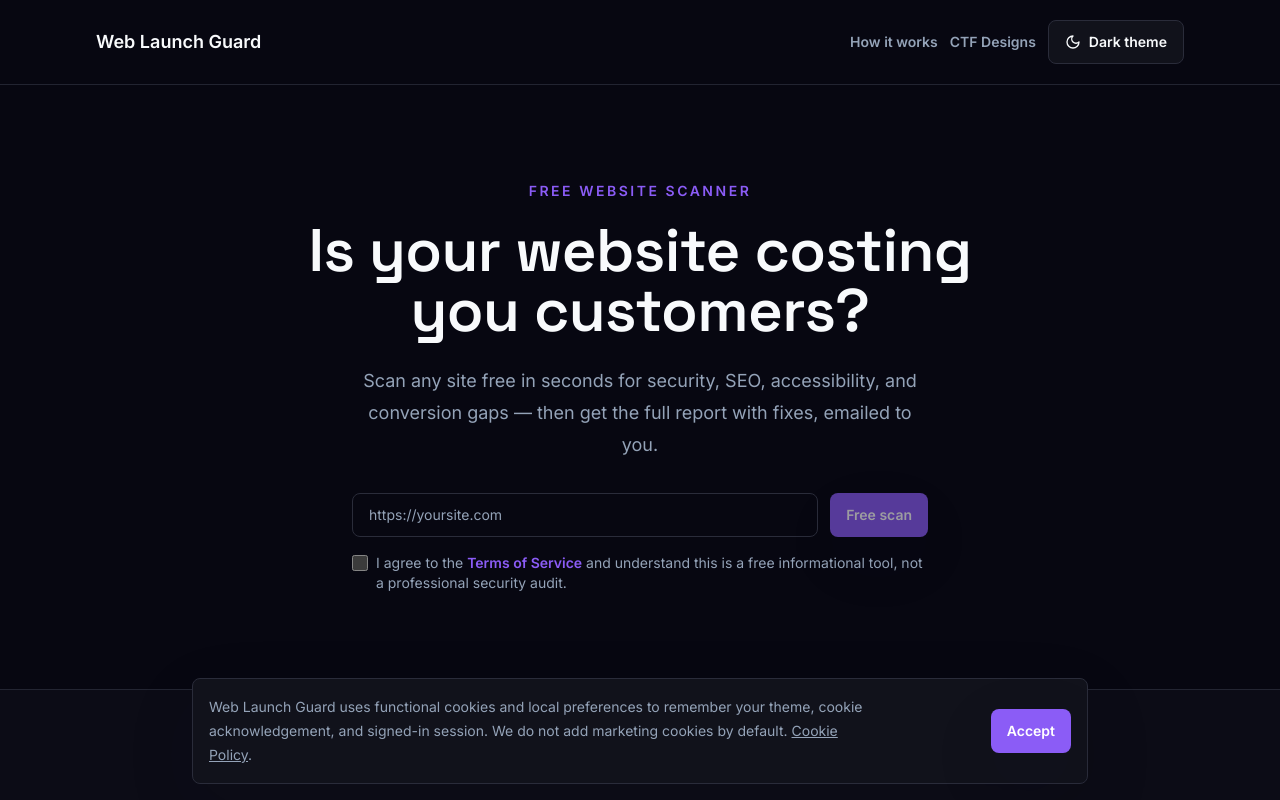
it: shows the functional cookie banner until it is accepted
The image size is (1280, 800).
Expected: the text "functional cookies" is shown, [209, 698, 862, 739]
What coordinates should you click on to do the following:
click the button "Accept"
I would click on:
 (1031, 731)
Its box is [991, 709, 1071, 753].
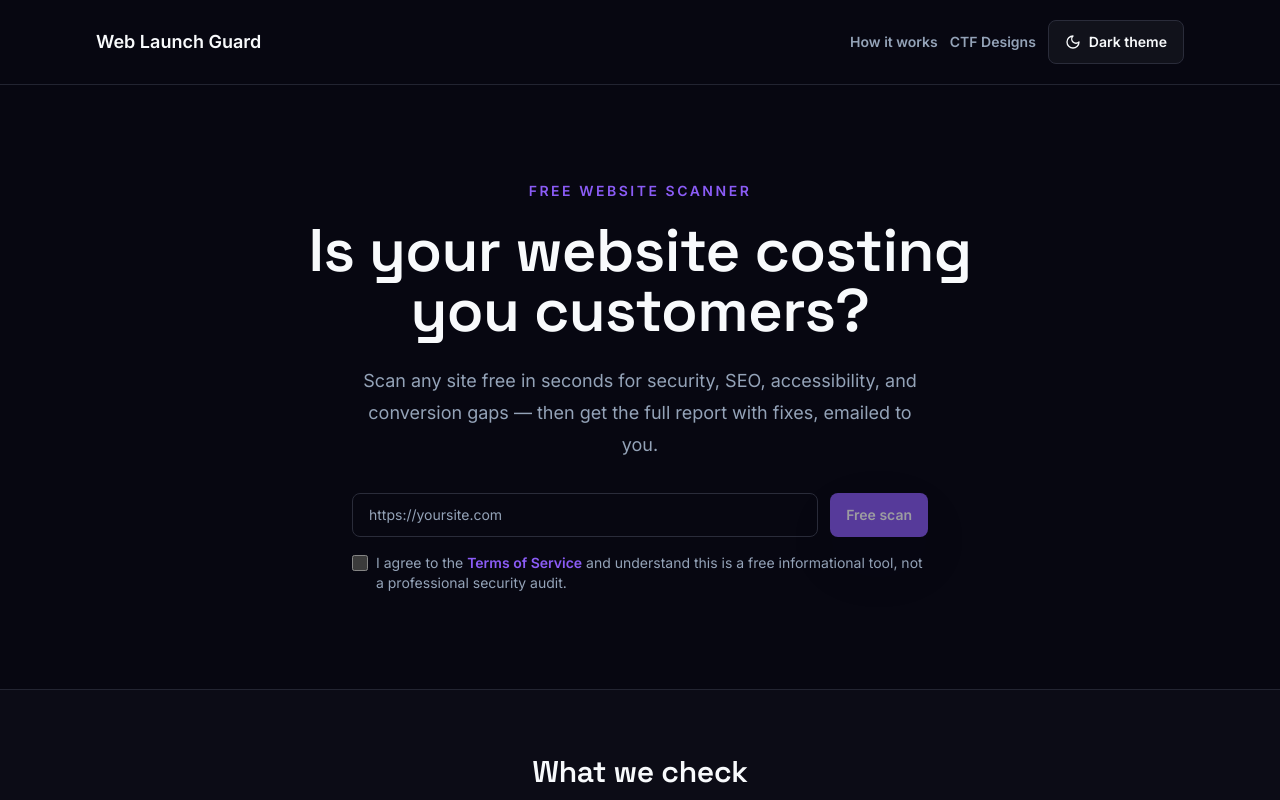
Now the text "functional cookies" is gone
